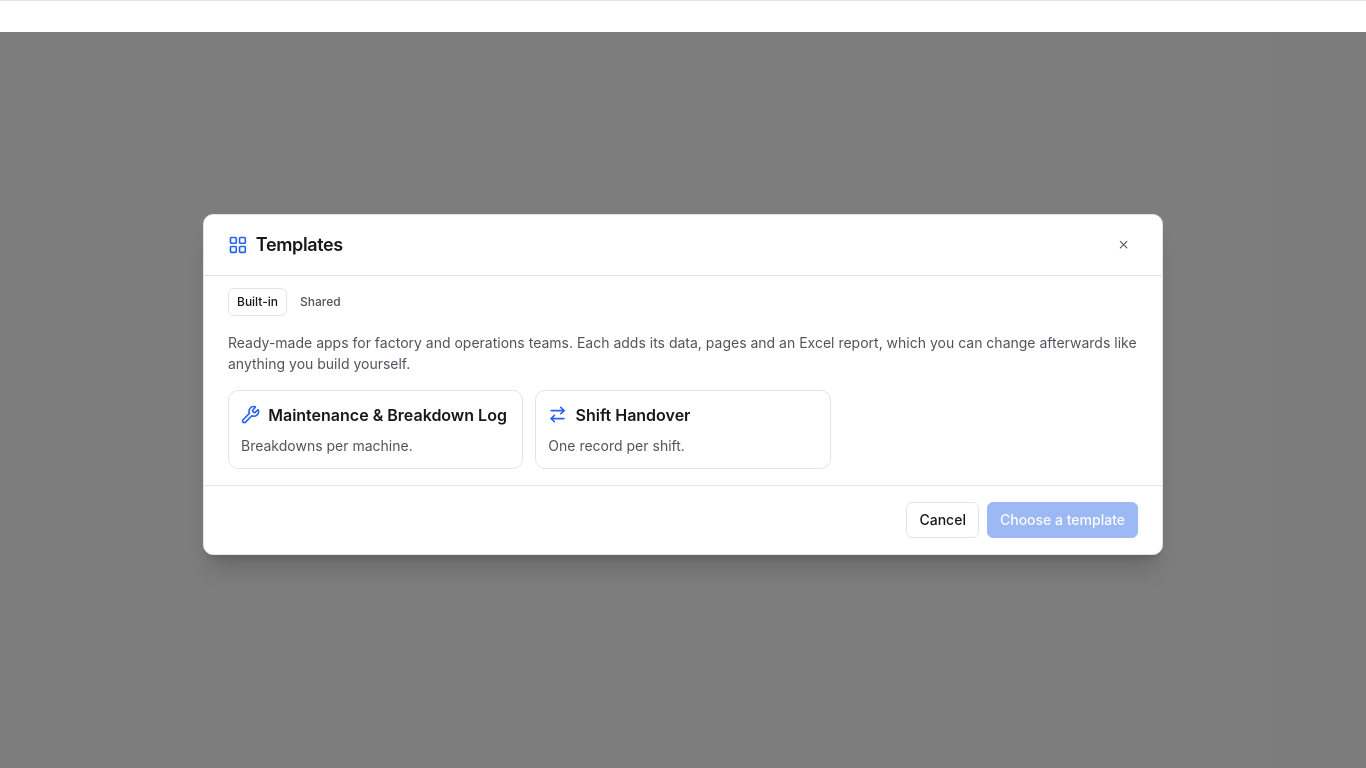
Test: Template gallery › shows what a template adds and installs it with or without sample data
Expected: the button "Choose a template" is disabled, [987, 502, 1138, 538]
Click the radio button labelled "Maintenance & Breakdown Log Breakdowns per machine.": (388, 414) [228, 390, 523, 468]
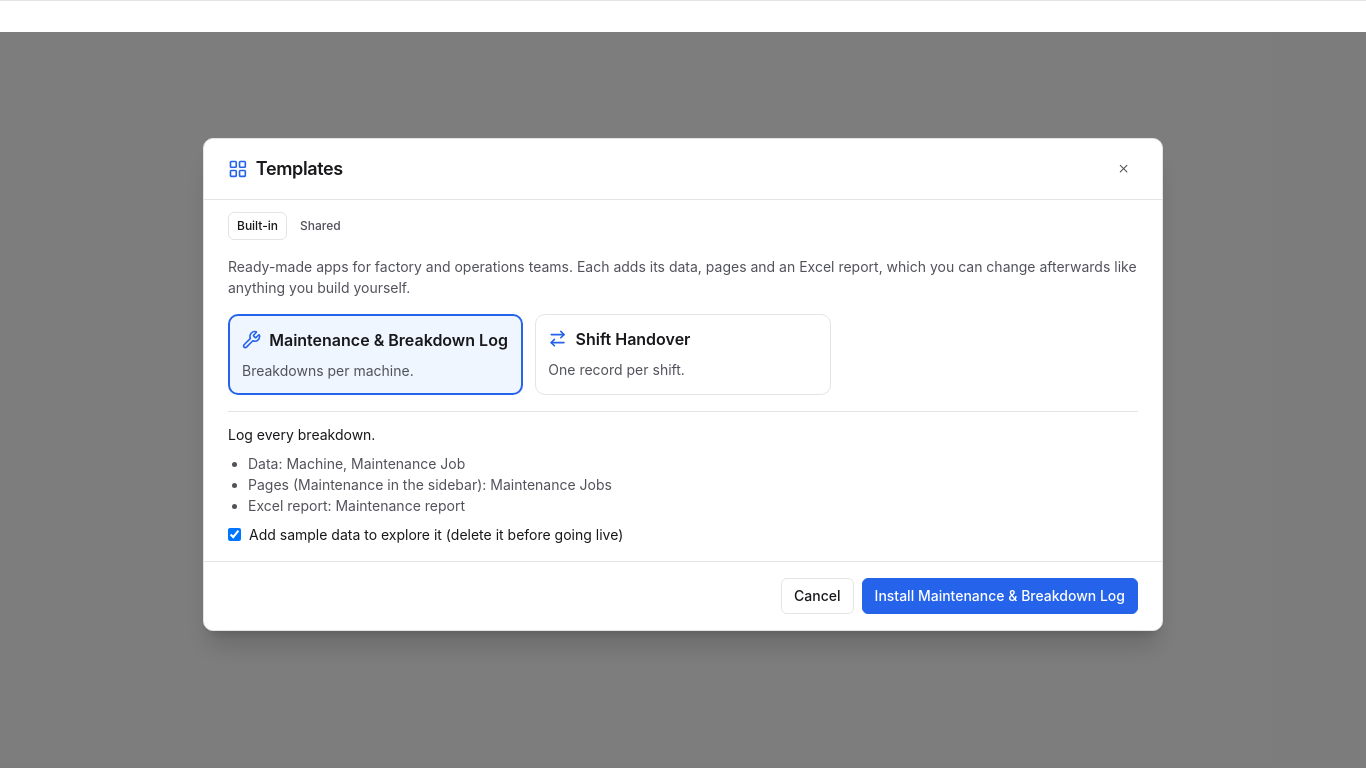
Expected: the list item "Data: Machine, Maintenance Job" is shown, [248, 454, 465, 472]
Click the checkbox labelled "Add sample data to explore it (delete it before going live)": (234, 534) [228, 528, 241, 540]
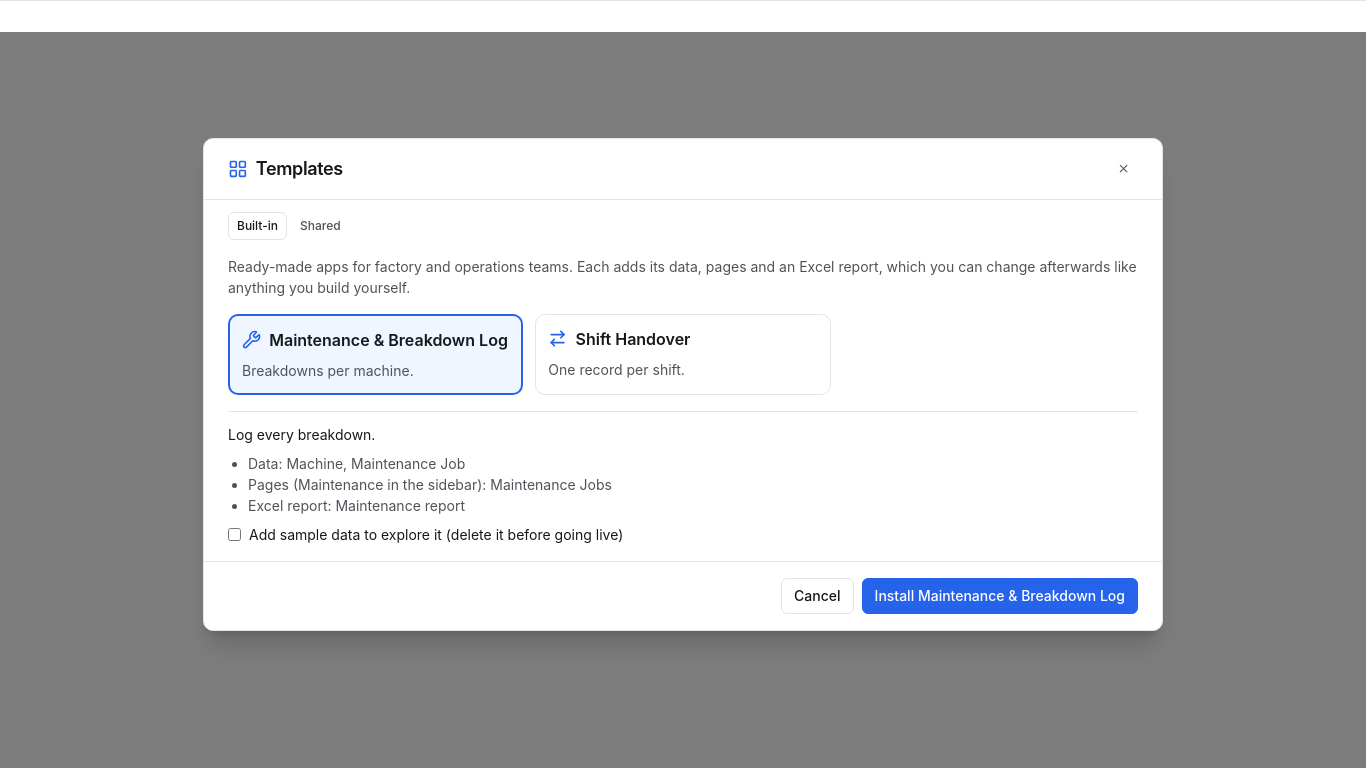
Click the button "Install Maintenance & Breakdown Log": (1000, 596) [862, 578, 1138, 614]
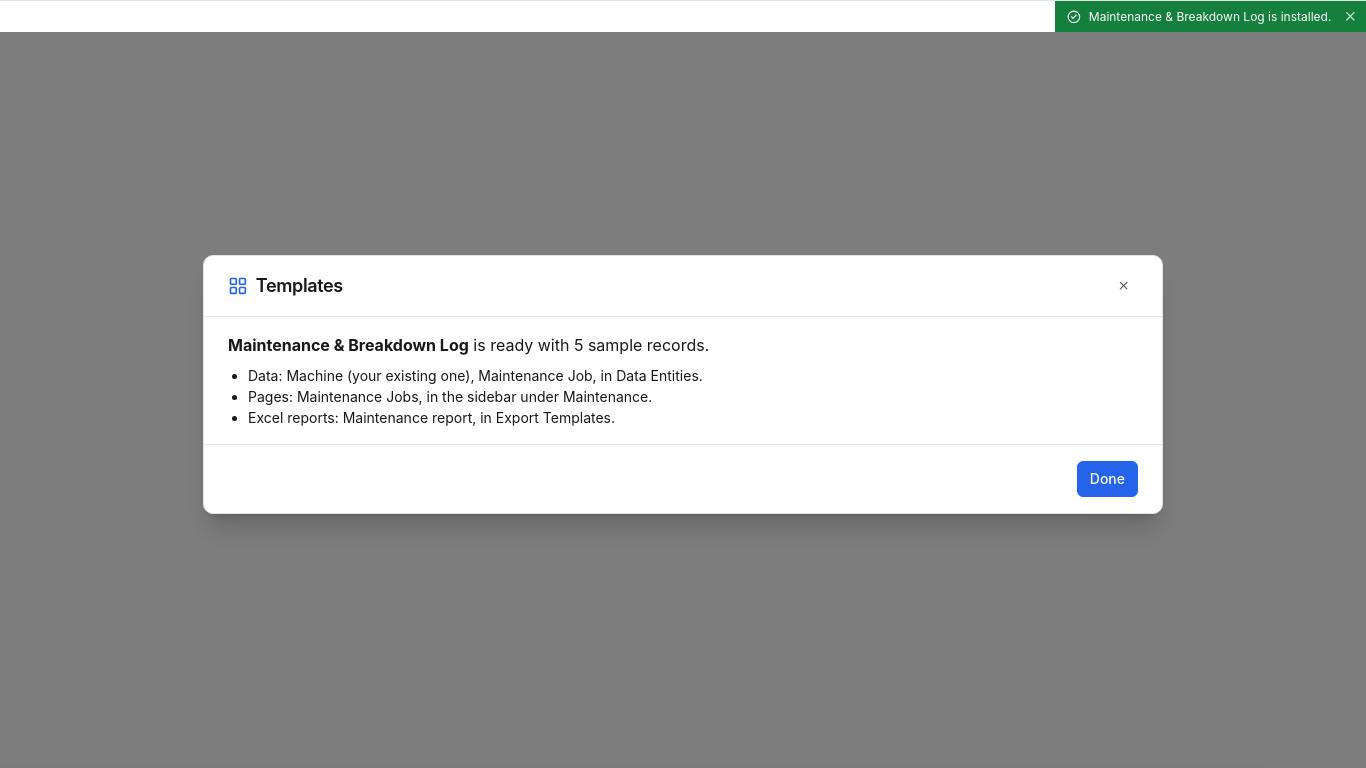
Expected: the list item "Machine (your existing one)" is shown, [286, 366, 593, 384]
Expected: the list item "Pages: Maintenance Jobs, in the sidebar under Maintenance." is shown, [248, 388, 652, 404]
